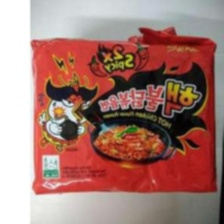snack: (26, 20, 224, 201)
